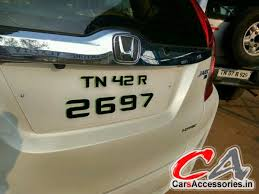T: (79, 73, 95, 90)
